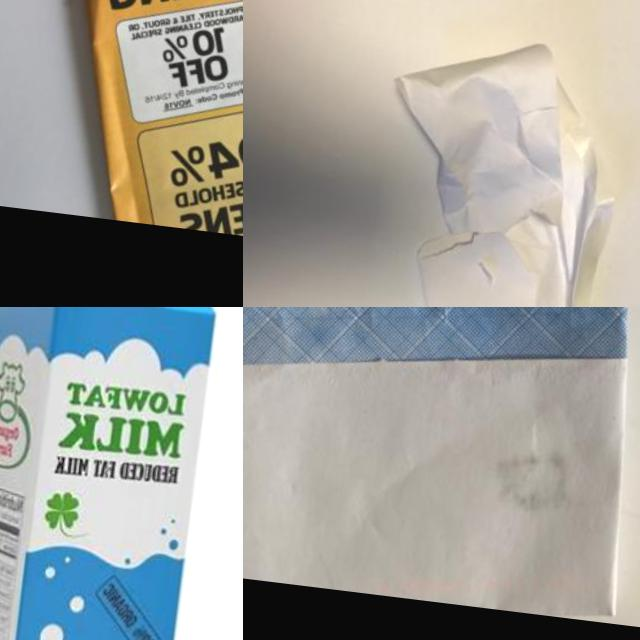caixinha: (0, 307, 226, 640)
papel: (243, 307, 640, 623), (355, 26, 632, 307), (39, 0, 243, 280)
